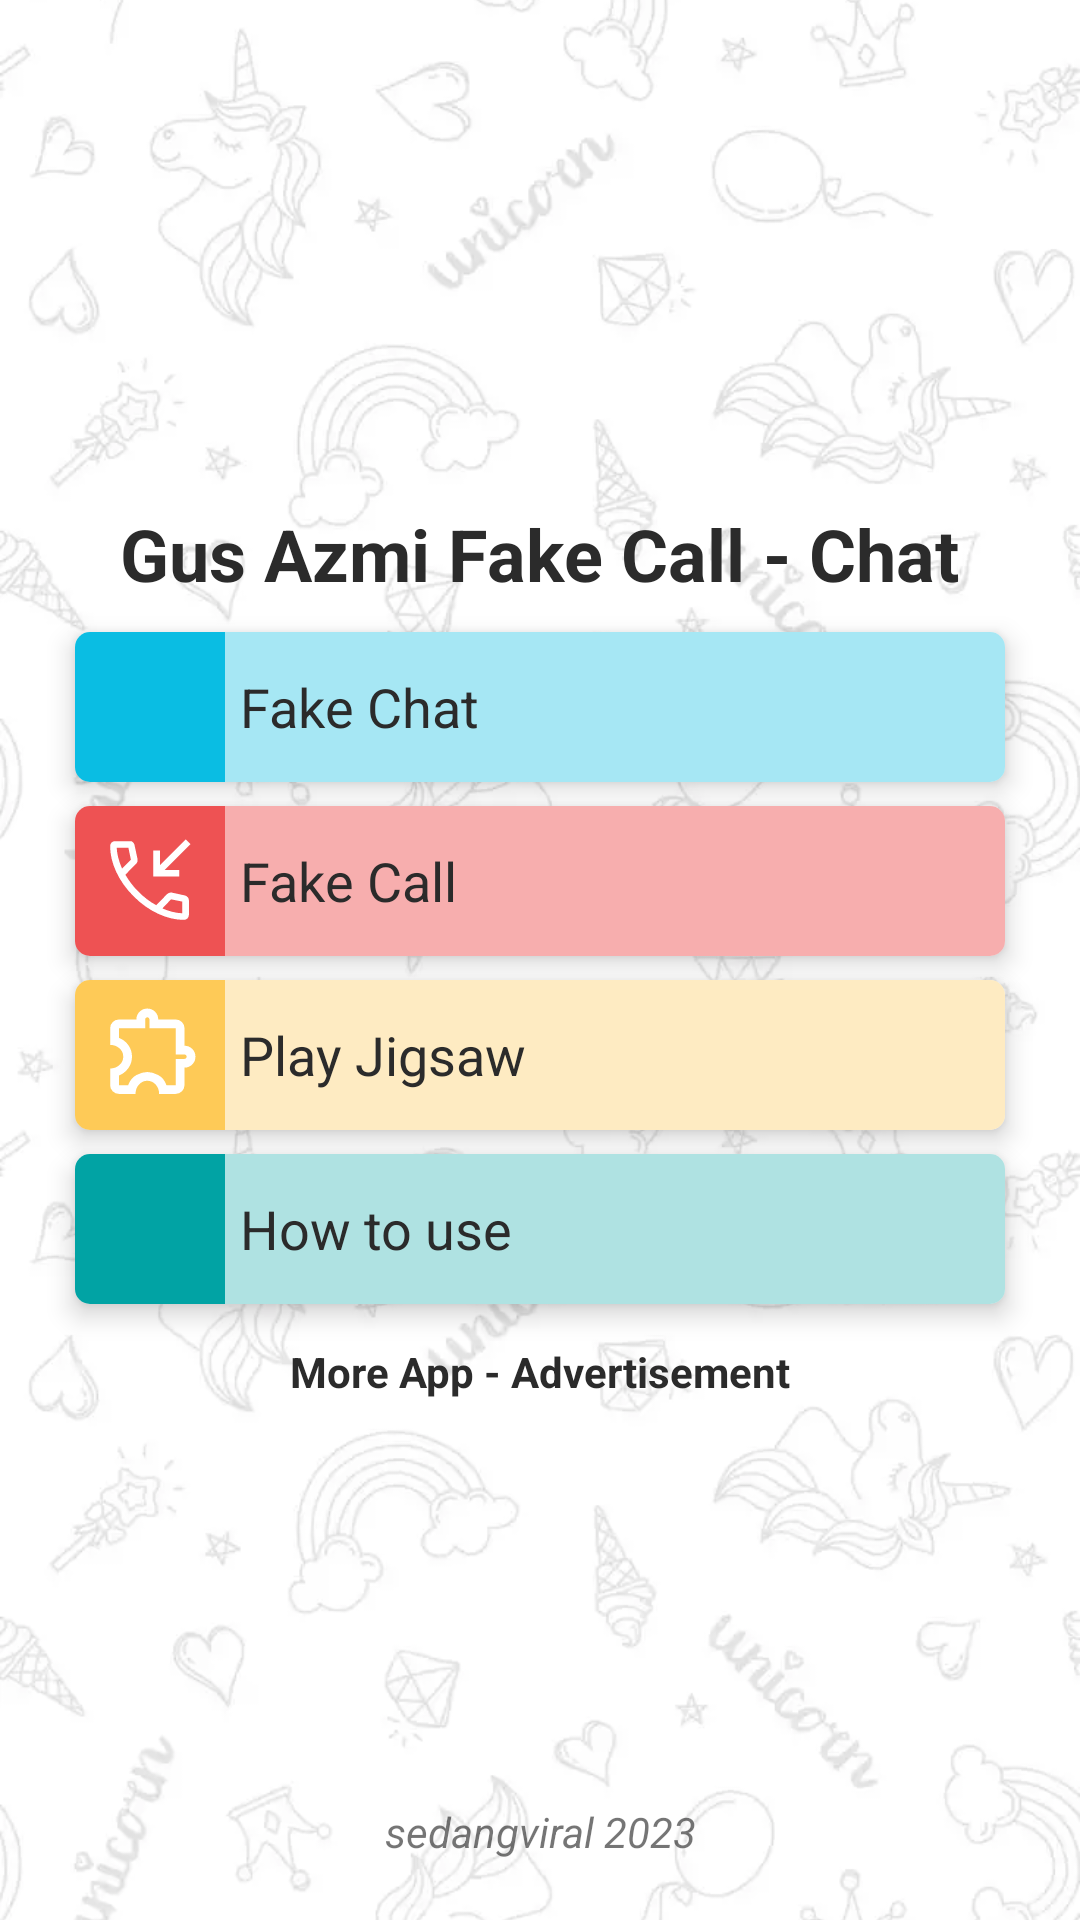

Screen size 1080px x 1920px. Icon name, then its center in pixels as [x,y]:
extension: [153,1051]
phone callback: [150,879]
